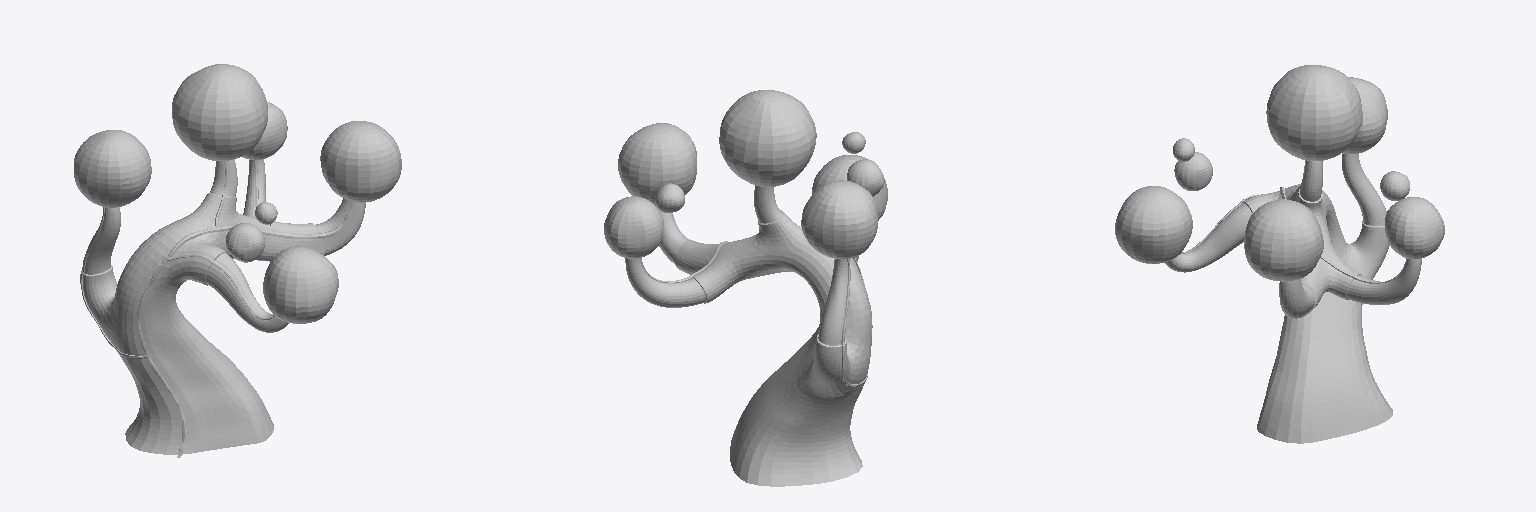
File: tree-01-01.obj
3 views of the same model, side by side, from view 1: azimuth 30°, elevation 25°; view 2: azimuth 150°, elevation 25°; view 3: azimuth 270°, elevation 25° (orthographic).
Parts seen in each view (by area): view 1: trunk tree_01, tree_01 bubbles bubble_03, tree_01 bubbles bubble_05, tree_01 bubble_01 bubbles, tree_01 bubbles bubble_02, tree_01 vines, tree_01 bubbles bubble_06, tree_01 bubbles bubble_04; view 2: trunk tree_01, tree_01 bubbles bubble_03, tree_01 bubble_01 bubbles, tree_01 bubbles bubble_05, tree_01 bubbles bubble_04, tree_01 bubbles bubble_02, tree_01 bubbles bubble_06, tree_01 vines, tree_01 bubbles bubble_08; view 3: trunk tree_01, tree_01 bubbles bubble_03, tree_01 bubbles bubble_05, tree_01 bubbles bubble_02, tree_01 bubbles bubble_04, tree_01 bubble_01 bubbles, tree_01 bubbles bubble_06, tree_01 bubbles bubble_08.
Part boxes in pixels (bbox=[...]): trunk tree_01: bbox=[83, 159, 365, 454]; tree_01 bubbles bubble_03: bbox=[172, 64, 267, 160]; tree_01 bubbles bubble_05: bbox=[320, 121, 401, 202]; tree_01 bubble_01 bubbles: bbox=[74, 130, 151, 207]; tree_01 bubbles bubble_02: bbox=[263, 246, 338, 323]; tree_01 vines: bbox=[80, 160, 354, 457]; tree_01 bubbles bubble_06: bbox=[226, 223, 264, 262]; tree_01 bubbles bubble_04: bbox=[243, 102, 287, 159]; trunk tree_01: bbox=[625, 185, 872, 486]; tree_01 bubbles bubble_03: bbox=[719, 90, 816, 186]; tree_01 bubble_01 bubbles: bbox=[801, 180, 877, 258]; tree_01 bubbles bubble_05: bbox=[618, 123, 696, 204]; tree_01 bubbles bubble_04: bbox=[604, 196, 663, 258]; tree_01 bubbles bubble_02: bbox=[812, 155, 887, 220]; tree_01 bubbles bubble_06: bbox=[847, 159, 884, 196]; tree_01 vines: bbox=[641, 209, 870, 387]; tree_01 bubbles bubble_08: bbox=[655, 183, 684, 212]; trunk tree_01: bbox=[1165, 154, 1421, 443]; tree_01 bubbles bubble_03: bbox=[1266, 65, 1362, 160]; tree_01 bubbles bubble_05: bbox=[1244, 199, 1323, 281]; tree_01 bubbles bubble_02: bbox=[1115, 186, 1192, 263]; tree_01 bubbles bubble_04: bbox=[1385, 197, 1444, 259]; tree_01 bubble_01 bubbles: bbox=[1342, 77, 1387, 153]; tree_01 bubbles bubble_06: bbox=[1174, 152, 1212, 190]; tree_01 bubbles bubble_08: bbox=[1380, 171, 1409, 200].
Size of the model in its own units: 2.85 by 3.44 by 2.87.